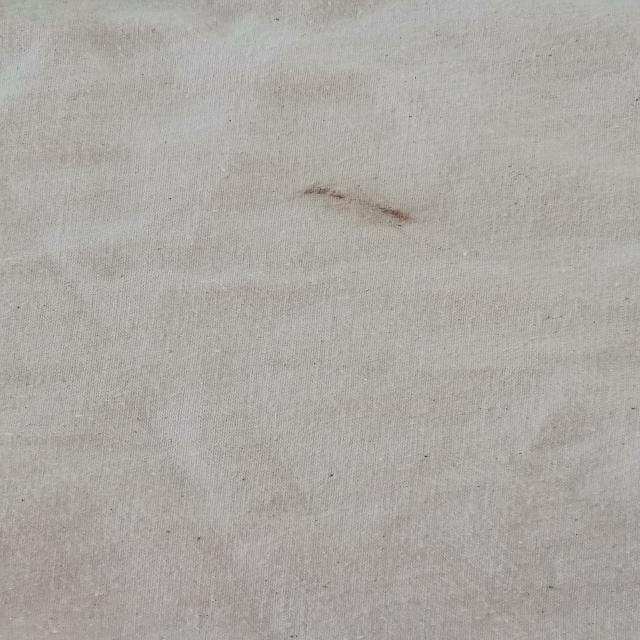taaaches: (273, 176, 431, 232)
